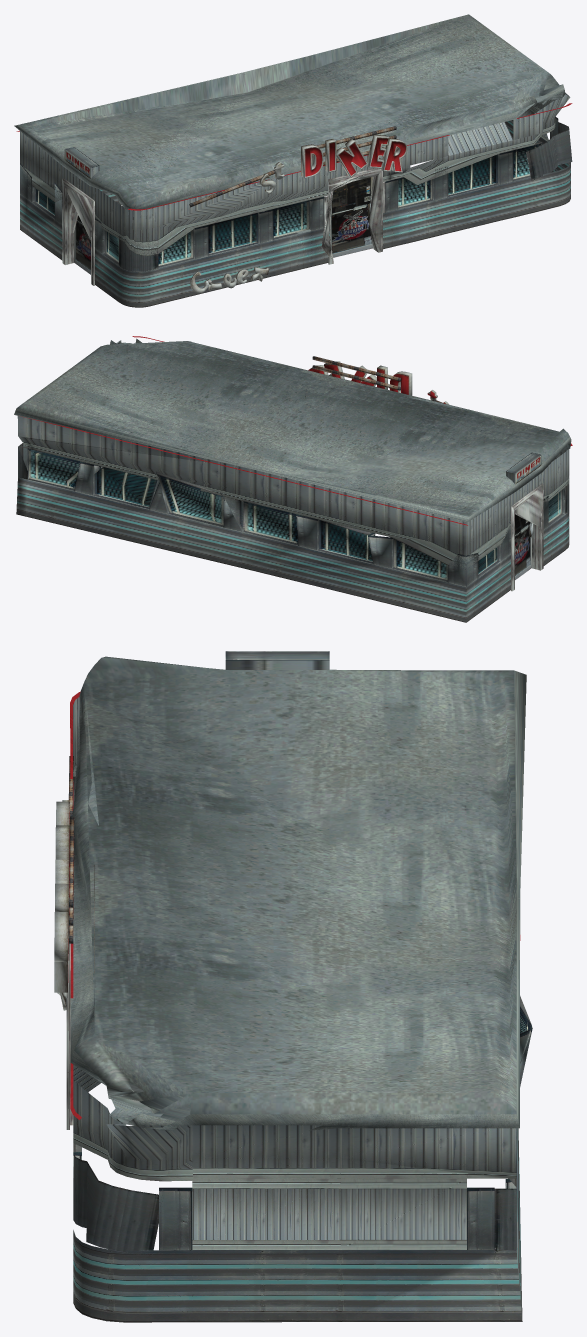
The model's file is brokenDinerModelobj.obj.
The picture shows the model from 3 angles, top to bottom: view 1: azimuth 30°, elevation 25°; view 2: azimuth 150°, elevation 25°; view 3: azimuth 270°, elevation 25°; orthographic projection. The views are drawn at different scales.
Parts seen in each view (by area): view 1: Diner_Restaurant_Diner_Restaurant_alumox, Diner_Restaurant_Diner_Restaurant_mh_dumbodinner, Diner_Restaurant_Diner_Restaurant_ks_dinermet_02, Diner_Restaurant_Diner_Restaurant_mh_dinerdet, Diner_Restaurant_Diner_Restaurant_dinersign, Diner_Restaurant_Diner_Restaurant_diner_door, Diner_Restaurant_Diner_Restaurant_ks_dinermet_02_ks_dinermet_02_; view 2: Diner_Restaurant_Diner_Restaurant_alumox, Diner_Restaurant_Diner_Restaurant_mh_dumbodinner, Diner_Restaurant_Diner_Restaurant_ks_dinermet_02, Diner_Restaurant_Diner_Restaurant_dinersign, Diner_Restaurant_Diner_Restaurant_mh_dinerdet, Diner_Restaurant_Diner_Restaurant_diner_door; view 3: Diner_Restaurant_Diner_Restaurant_alumox, Diner_Restaurant_Diner_Restaurant_ks_dinermet_02, Diner_Restaurant_Diner_Restaurant_mh_dumbodinner, Diner_Restaurant_Diner_Restaurant_mh_dinerdet, Diner_Restaurant_Diner_Restaurant_dinersign.
Boxes of the visible parts, x1,y1,x2,y2 form: Diner_Restaurant_Diner_Restaurant_alumox: (14,14,565,233); Diner_Restaurant_Diner_Restaurant_mh_dumbodinner: (20,116,570,307); Diner_Restaurant_Diner_Restaurant_ks_dinermet_02: (20,74,570,255); Diner_Restaurant_Diner_Restaurant_mh_dinerdet: (62,122,572,285); Diner_Restaurant_Diner_Restaurant_dinersign: (16,103,572,293); Diner_Restaurant_Diner_Restaurant_diner_door: (74,176,372,274); Diner_Restaurant_Diner_Restaurant_ks_dinermet_02_ks_dinermet_02_: (410,112,542,165); Diner_Restaurant_Diner_Restaurant_alumox: (14,338,571,522); Diner_Restaurant_Diner_Restaurant_mh_dumbodinner: (16,443,569,622); Diner_Restaurant_Diner_Restaurant_ks_dinermet_02: (17,340,569,569); Diner_Restaurant_Diner_Restaurant_dinersign: (22,336,572,525); Diner_Restaurant_Diner_Restaurant_mh_dinerdet: (18,443,569,591); Diner_Restaurant_Diner_Restaurant_diner_door: (515,514,533,579); Diner_Restaurant_Diner_Restaurant_alumox: (70,656,526,1130); Diner_Restaurant_Diner_Restaurant_ks_dinermet_02: (73,660,516,1249); Diner_Restaurant_Diner_Restaurant_mh_dumbodinner: (73,651,532,1322); Diner_Restaurant_Diner_Restaurant_mh_dinerdet: (66,763,516,1254); Diner_Restaurant_Diner_Restaurant_dinersign: (54,691,520,1119).
Bounding box in the file's own units: 22.93 × 5.99 × 10.43.
